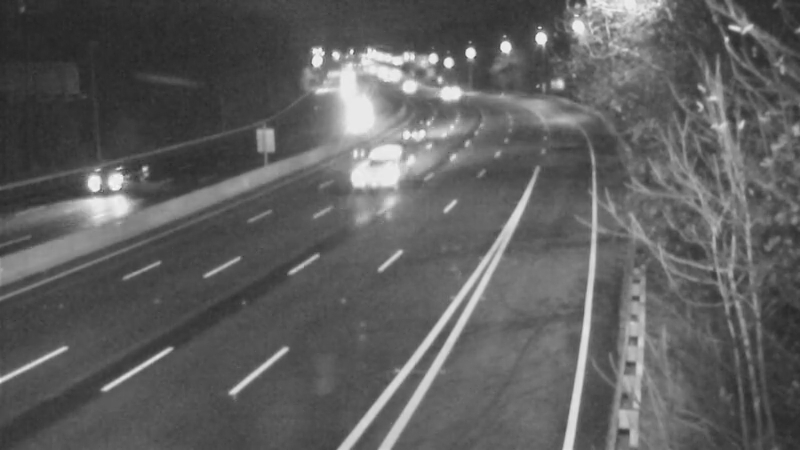vehicle: (343, 126, 423, 206), (64, 138, 144, 218), (386, 61, 436, 111), (423, 67, 473, 117), (383, 106, 433, 156), (334, 94, 384, 144)
